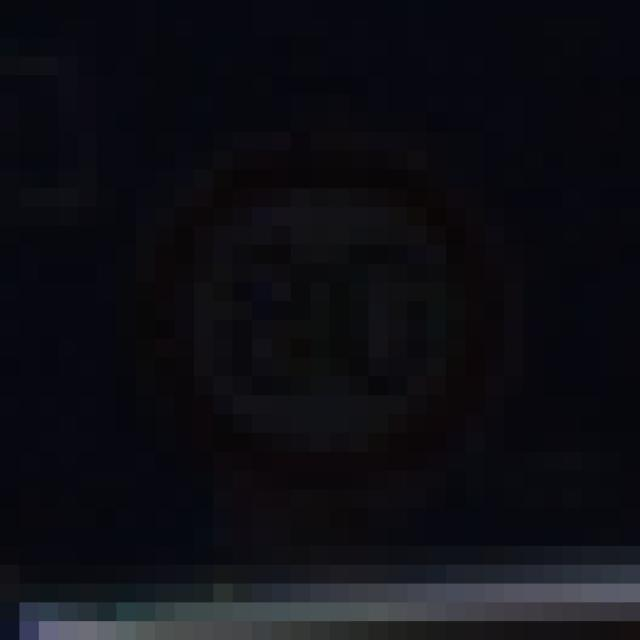Ograniczenie predkosci do 80: (141, 155, 516, 483)
